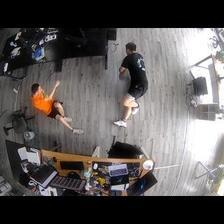fall: (29, 81, 85, 135), (113, 43, 146, 128)
